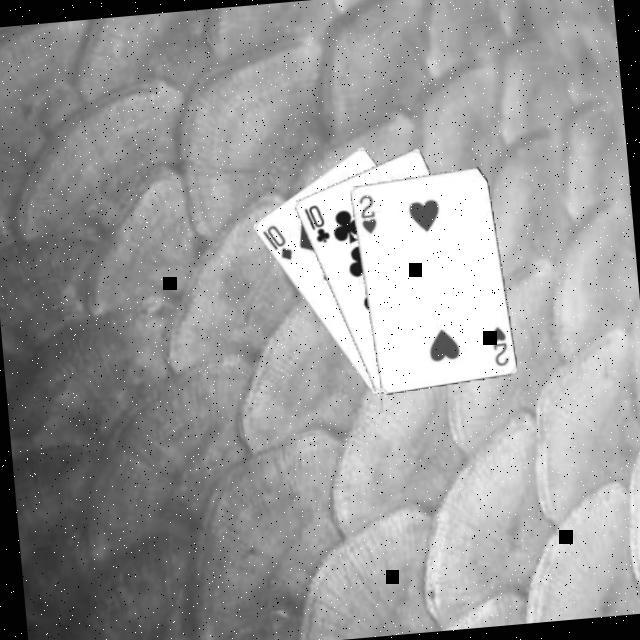10C: (300, 200, 333, 246)
10D: (258, 219, 296, 264)
2H: (355, 190, 381, 236), (487, 322, 513, 368)
